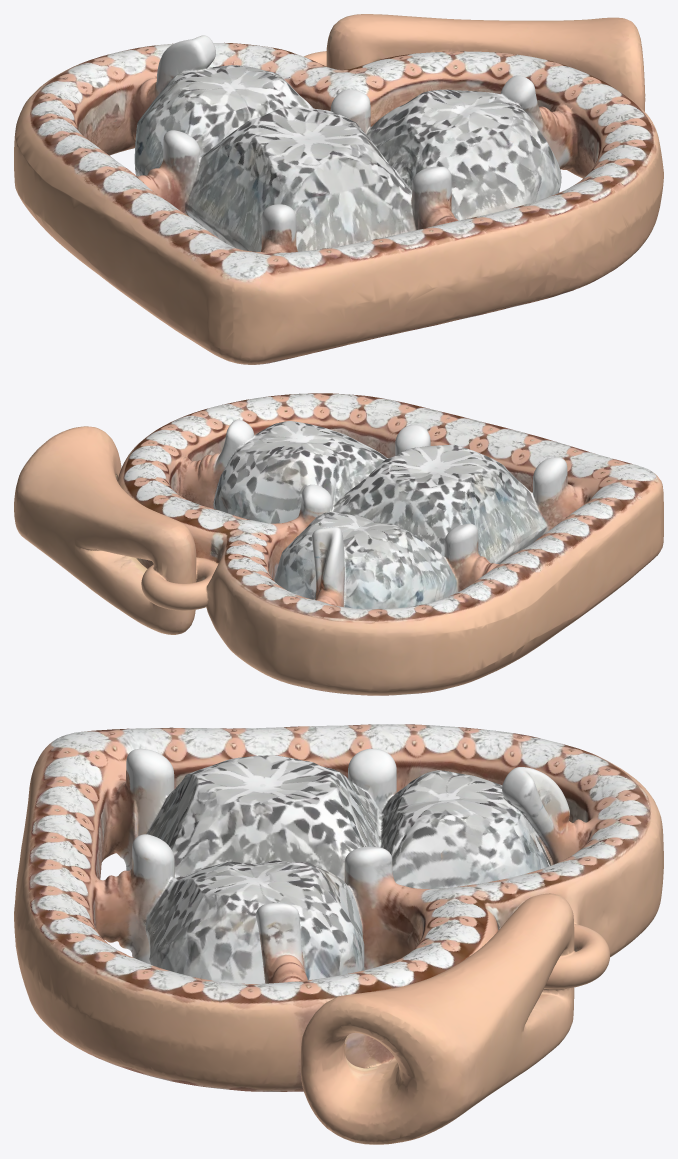
The model's file is heart-halo-pendant-opt.glb.
3 renders of one model, top to bottom at view 1: azimuth 30°, elevation 25°; view 2: azimuth 150°, elevation 25°; view 3: azimuth 270°, elevation 25°, orthographic. The views are drawn at different scales.
Parts seen in each view (by area): view 1: mesh_node; view 2: mesh_node; view 3: mesh_node.
Part boxes in pixels (x1,y1,x2,y2): mesh_node: (14, 14, 663, 364); mesh_node: (14, 393, 663, 695); mesh_node: (14, 724, 663, 1144).
Size of the model in its own units: 1.9 by 0.5669 by 1.63.
Materials: 1 (1 with a texture image).
